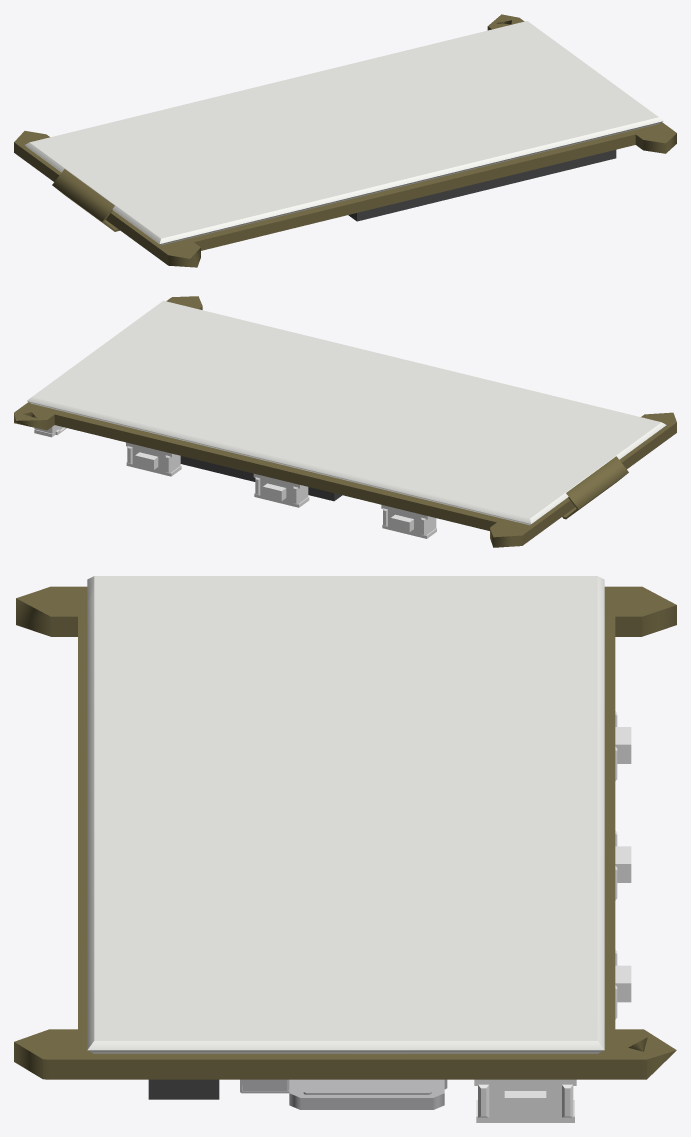
Rendered from ada-4778.glb.
3 renders of one model, top to bottom at view 1: azimuth 30°, elevation 25°; view 2: azimuth 150°, elevation 25°; view 3: azimuth 270°, elevation 25°, orthographic. The views are drawn at different scales.
Visible parts, largest first — view 1: 0.9166666666666666_0.9166666666666666_0.8333333333333334_0.8, 0.16666666666666666_0.16666666666666666_0.08333333333333333_, 0.08333333333333333_0.08333333333333333_0.08333333333333333_; view 2: 0.9166666666666666_0.9166666666666666_0.8333333333333334_0.8, 0.16666666666666666_0.16666666666666666_0.08333333333333333_, 0.9166666666666666_0.9166666666666666_0.9166666666666666_0.8, 0.08333333333333333_0.08333333333333333_0.08333333333333333_; view 3: 0.9166666666666666_0.9166666666666666_0.8333333333333334_0.8, 0.16666666666666666_0.16666666666666666_0.08333333333333333_, 0.9166666666666666_0.9166666666666666_0.9166666666666666_0.8, 0.5833333333333334_0.5833333333333334_0.5833333333333334_0.8, 0.08333333333333333_0.08333333333333333_0.08333333333333333_.
Part boxes in pixels (box(x1,y1,x2,y2)): 0.9166666666666666_0.9166666666666666_0.8333333333333334_0.8: box(25, 21, 663, 245); 0.16666666666666666_0.16666666666666666_0.08333333333333333_: box(14, 14, 676, 267); 0.08333333333333333_0.08333333333333333_0.08333333333333333_: box(348, 150, 616, 221); 0.9166666666666666_0.9166666666666666_0.8333333333333334_0.8: box(27, 300, 666, 525); 0.16666666666666666_0.16666666666666666_0.08333333333333333_: box(14, 296, 676, 547); 0.9166666666666666_0.9166666666666666_0.9166666666666666_0.8: box(34, 425, 436, 538); 0.08333333333333333_0.08333333333333333_0.08333333333333333_: box(180, 456, 341, 501); 0.9166666666666666_0.9166666666666666_0.8333333333333334_0.8: box(87, 576, 604, 1053); 0.16666666666666666_0.16666666666666666_0.08333333333333333_: box(14, 586, 676, 1079); 0.9166666666666666_0.9166666666666666_0.9166666666666666_0.8: box(474, 711, 631, 1122); 0.5833333333333334_0.5833333333333334_0.5833333333333334_0.8: box(240, 1079, 447, 1109); 0.08333333333333333_0.08333333333333333_0.08333333333333333_: box(148, 1079, 219, 1099).
Size of the model in its own units: 8.21 by 0.6672 by 4.7.
